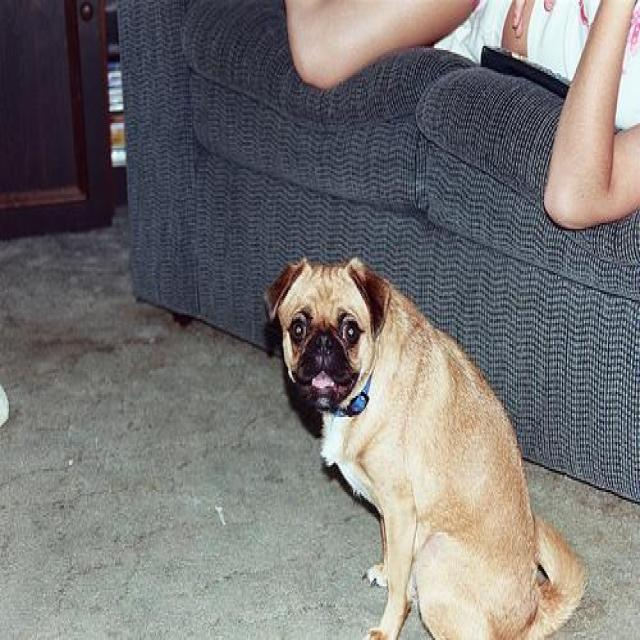adult_dog: (271, 253, 588, 640)
